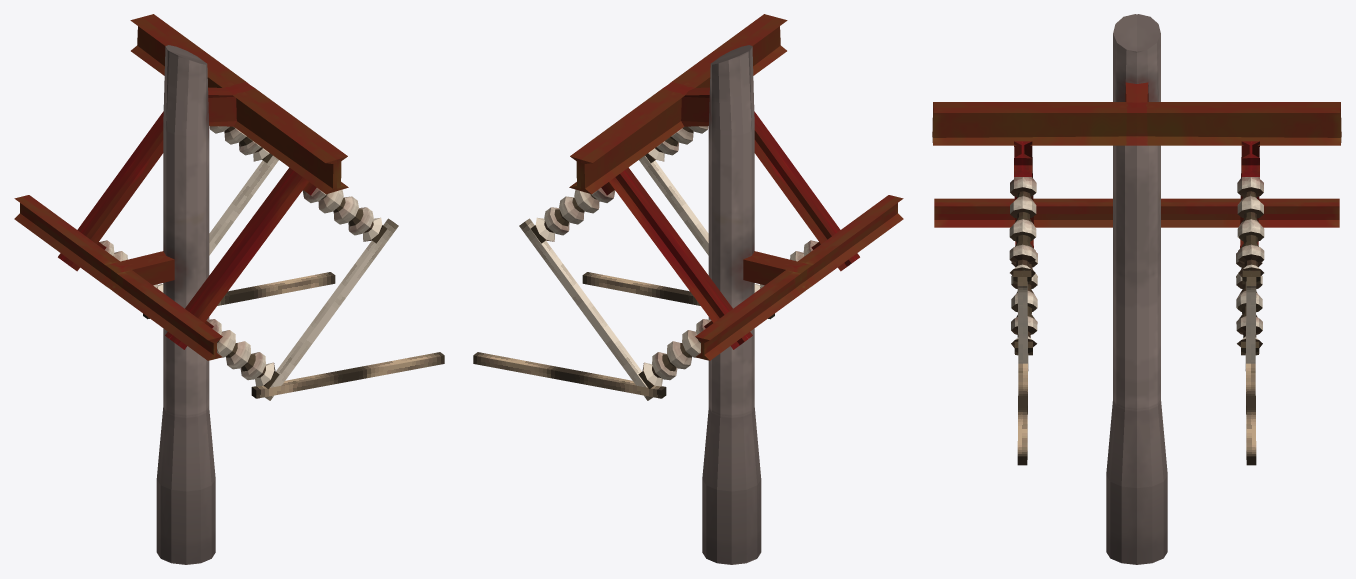
Rendered from GridBreaker.obj.
3 renders of one model, left to right at view 1: azimuth 30°, elevation 25°; view 2: azimuth 150°, elevation 25°; view 3: azimuth 270°, elevation 25°, orthographic. The views are drawn at different scales.
Parts seen in each view (by area): view 1: main, fuse_closed, fuse_open; view 2: main, fuse_closed, fuse_open; view 3: main, fuse_open, fuse_closed.
Part boxes in pixels (<box>): main: <box>14,14,387,564</box>; fuse_closed: <box>209,155,398,400</box>; fuse_open: <box>143,272,444,398</box>; main: <box>530,14,903,564</box>; fuse_closed: <box>519,155,708,400</box>; fuse_open: <box>473,272,774,398</box>; main: <box>932,14,1341,564</box>; fuse_open: <box>1017,363,1256,465</box>; fuse_closed: <box>1017,277,1256,370</box>.
Bounding box in the file's own units: 4.69 × 8.2 × 5.75.
4 materials, 4 textured.
